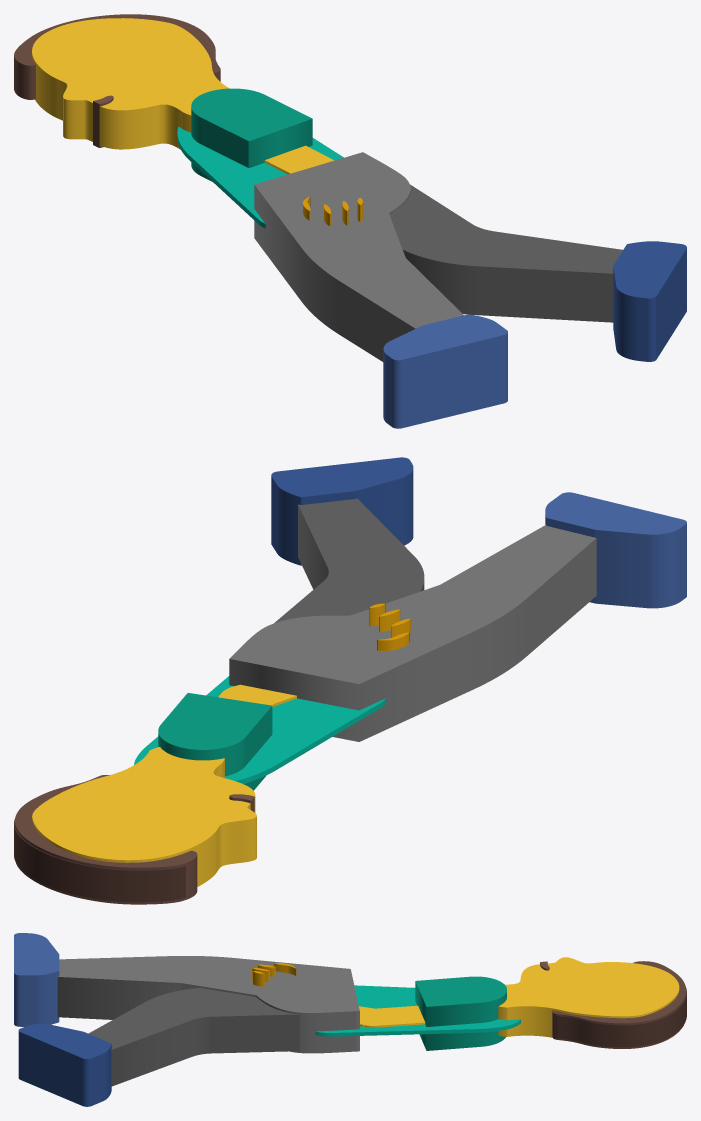
File: emoji_u1f6b6_200d_2642.glb
3 renders of one model, top to bottom at view 1: azimuth 30°, elevation 25°; view 2: azimuth 150°, elevation 25°; view 3: azimuth 270°, elevation 25°, orthographic. The views are drawn at different scales.
Visible parts, largest first — view 1: emoji_u1f6b6_200d_2642; view 2: emoji_u1f6b6_200d_2642; view 3: emoji_u1f6b6_200d_2642.
Boxes of the visible parts, box(x1,y1,x2,y2) form: emoji_u1f6b6_200d_2642: box(14, 14, 686, 428); emoji_u1f6b6_200d_2642: box(14, 457, 686, 904); emoji_u1f6b6_200d_2642: box(14, 933, 686, 1106).
Size of the model in its own units: 0.0145 by 0.0036 by 0.0332.
